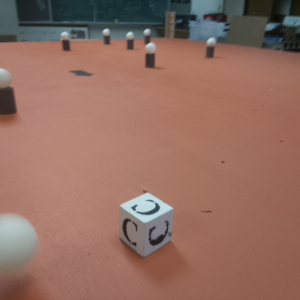blockC: (119, 196, 169, 255)
corner: (165, 11, 175, 40)
obstacle: (1, 68, 15, 117), (144, 43, 156, 67), (205, 37, 214, 57), (61, 34, 70, 49), (127, 31, 134, 50), (104, 29, 111, 45), (144, 28, 151, 44)
start: (69, 68, 94, 79)
